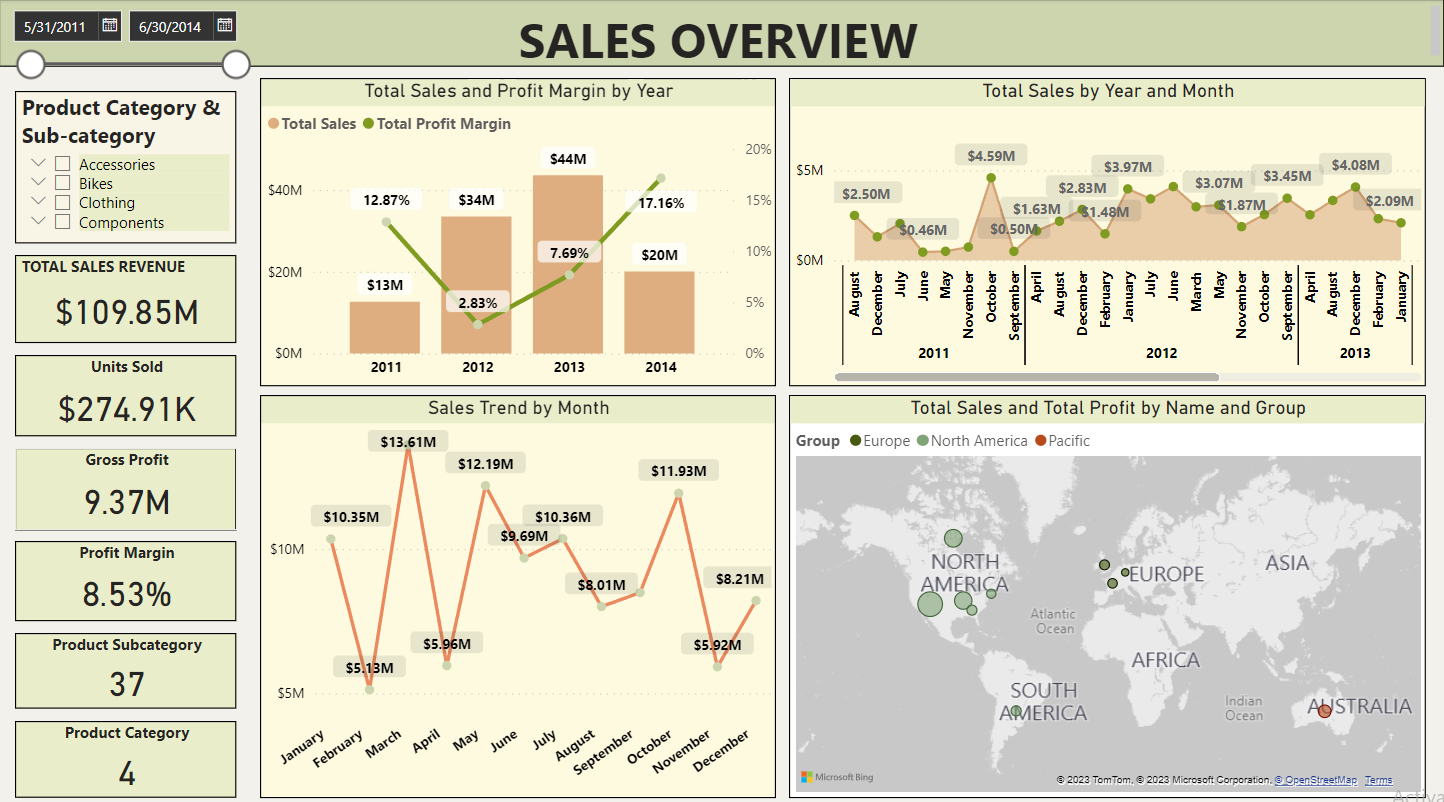

Layout of this report page (visuals, bound fields, positions):
{"tool":"powerbi","page":{"name":"OVERVIEW","canvas":[1280,720],"ordinal":0},"visuals":[{"type":"textbox","box":[0,0,1280,60.4],"z":0},{"type":"card","title":"Units Sold","fields":{"Values":["Table.Total Quantity"]},"box":[14.3,315.1,196.5,71.6],"z":1000},{"type":"card","title":"TOTAL SALES REVENUE","fields":{"Values":["Table.Total Sales"]},"box":[14.3,227.1,196.5,77.8],"z":2000},{"type":"card","title":"Gross Profit","fields":{"Values":["_Measure.Total Profit"]},"box":[14.3,398,196.5,72.6],"z":3000},{"type":"card","title":"Profit Margin ","fields":{"Values":["_Measure.Total Profit Margin"]},"box":[14.3,479.9,196.5,70.6],"z":4000},{"type":"card","title":"Product Subcategory","fields":{"Values":["Count(SubCate.SubcategoryName)"]},"box":[14.3,561.7,196.5,66.5],"z":5000},{"type":"card","title":"Product Category","fields":{"Values":["Count(SubCate.ProductCategoryName)"]},"box":[14.3,639.5,196.5,67.5],"z":6000},{"type":"slicer","title":"Product Category & Sub-category","fields":{"Values":["SubCate.ProductCategoryName","SubCate.SubcategoryName"]},"box":[14.3,81.9,196.5,135.1],"z":7000},{"type":"areaChart","fields":{"Y":["_Measure.Total Sales"],"Category":["Calendar.Date.Variation.Date Hierarchy.Year","Calendar.Month"]},"box":[700,69.7,563.6,272.7],"z":8000},{"type":"slicer","fields":{"Values":["Calendar.Date"]},"box":[0,0,231.2,94.1],"z":9000},{"type":"map","fields":{"Size":["_Measure.Total Sales"],"Category":["Fact_Sales.Name"],"Series":["Fact_Sales.Group"]},"box":[700,350.5,563.6,356.6],"z":10000},{"type":"lineStackedColumnComboChart","title":"Total Sales and Profit Margin by Year","fields":{"Category":["Calendar.Date.Variation.Date Hierarchy.Year"],"Y":["_Measure.Total Sales"],"Y2":["_Measure.Total Profit Margin"]},"box":[231.3,69.7,456.6,272.7],"z":11000},{"type":"lineChart","title":"Sales Trend by Month","fields":{"Category":["Calendar.Date.Variation.Date Hierarchy.Month"],"Y":["_Measure.Total Sales"]},"box":[231.3,350.5,456.6,356.6],"z":12000}]}

Visuals, with their boxes in screenshot pixels (x1, y1, x2, y2), scaled from the page's 1280x720 canvas onto the 1444x802 screenshot:
textbox: 0:0:1443:67
"Units Sold" card: 16:351:238:431
"TOTAL SALES REVENUE" card: 16:253:238:340
"Gross Profit" card: 16:443:238:524
"Profit Margin " card: 16:535:238:613
"Product Subcategory" card: 16:626:238:700
"Product Category" card: 16:712:238:788
"Product Category & Sub-category" slicer: 16:91:238:242
areaChart - _Measure.Total Sales x Calendar.Date.Variation.Date Hierarchy.Year: 790:78:1425:381
slicer - Calendar.Date: 0:0:261:105
map - _Measure.Total Sales x Fact_Sales.Name: 790:390:1425:788
"Total Sales and Profit Margin by Year" lineStackedColumnComboChart: 261:78:776:381
"Sales Trend by Month" lineChart: 261:390:776:788
